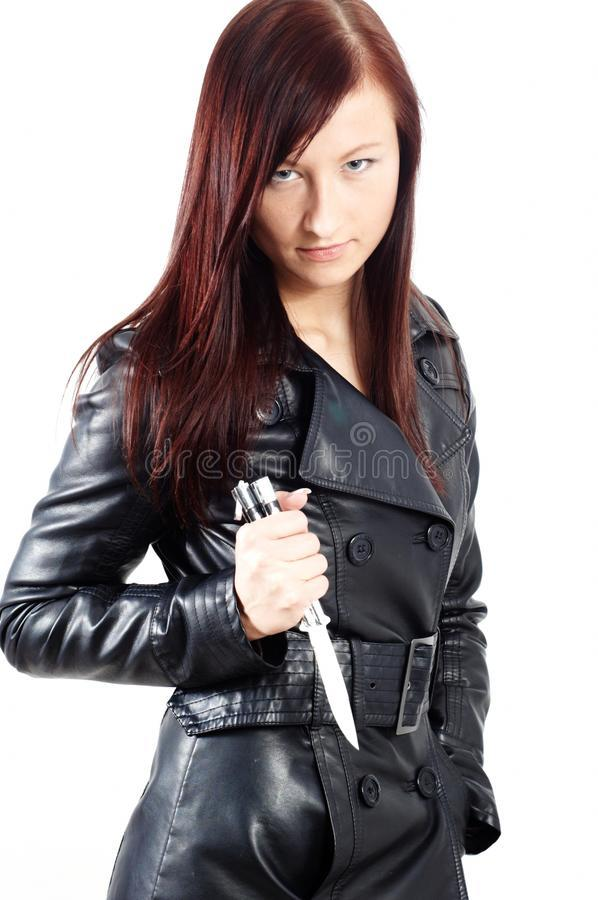criminal: (0, 0, 504, 900)
weapon: (230, 470, 371, 757)
